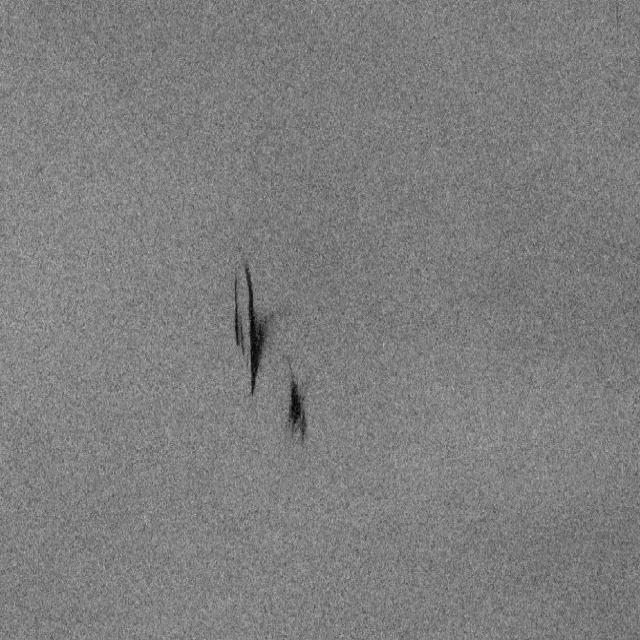oil-spill: (227, 252, 274, 400), (282, 357, 314, 446)
